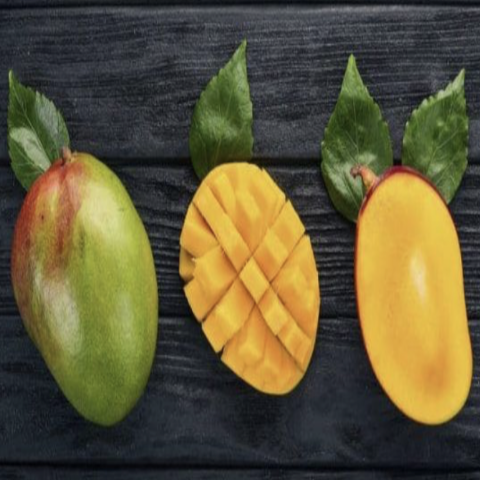mango: (5, 137, 166, 439), (172, 160, 323, 436), (340, 150, 480, 432)
